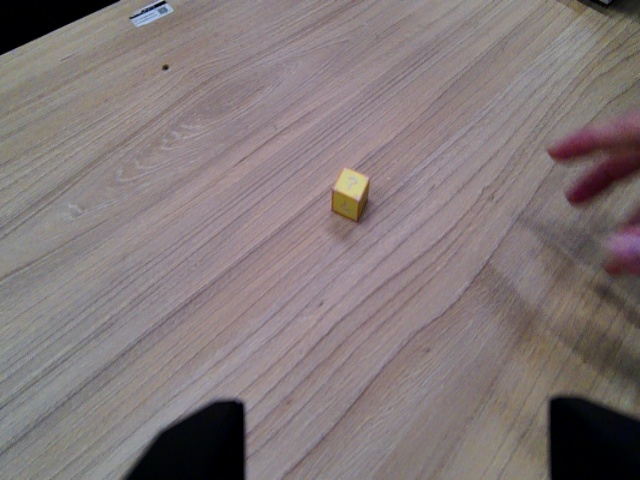lucky: (321, 162, 377, 226)
